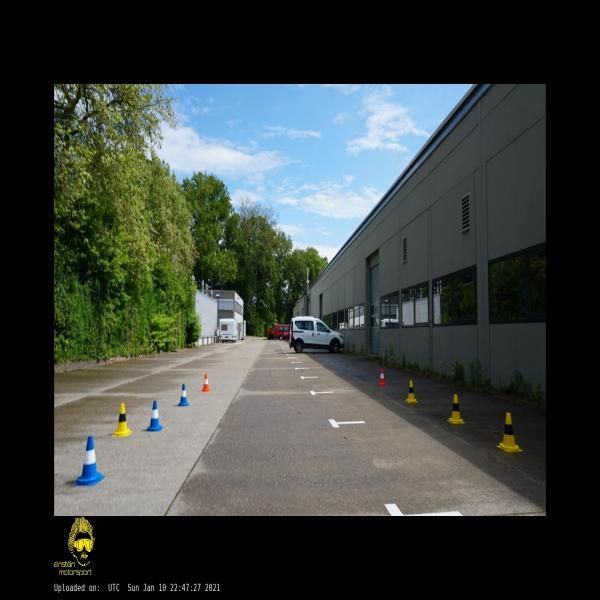blue_cone: (72, 436, 104, 486), (145, 400, 164, 432), (178, 383, 190, 407)
orange_cone: (201, 373, 210, 392), (378, 368, 387, 386)
yellow_cone: (496, 413, 523, 452), (112, 403, 132, 436), (447, 394, 465, 424), (404, 380, 418, 403)
